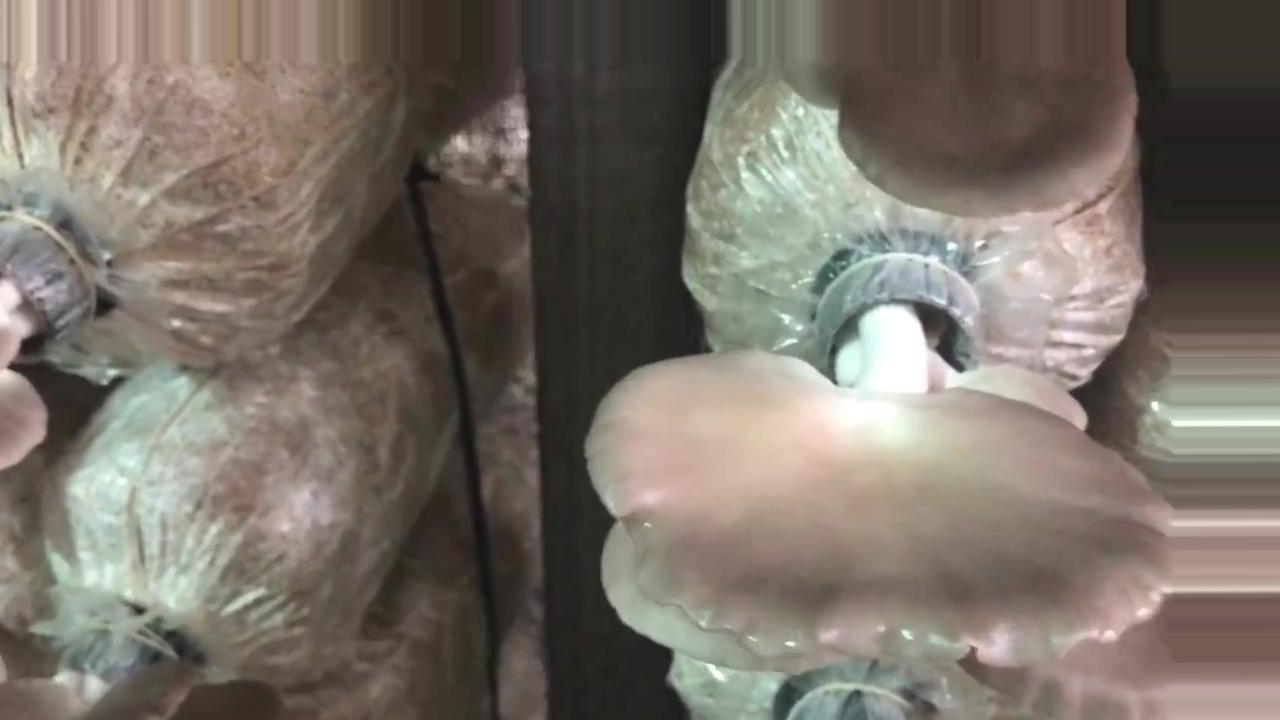nam: (586, 248, 1171, 678), (783, 1, 1138, 224), (1, 177, 93, 468)
